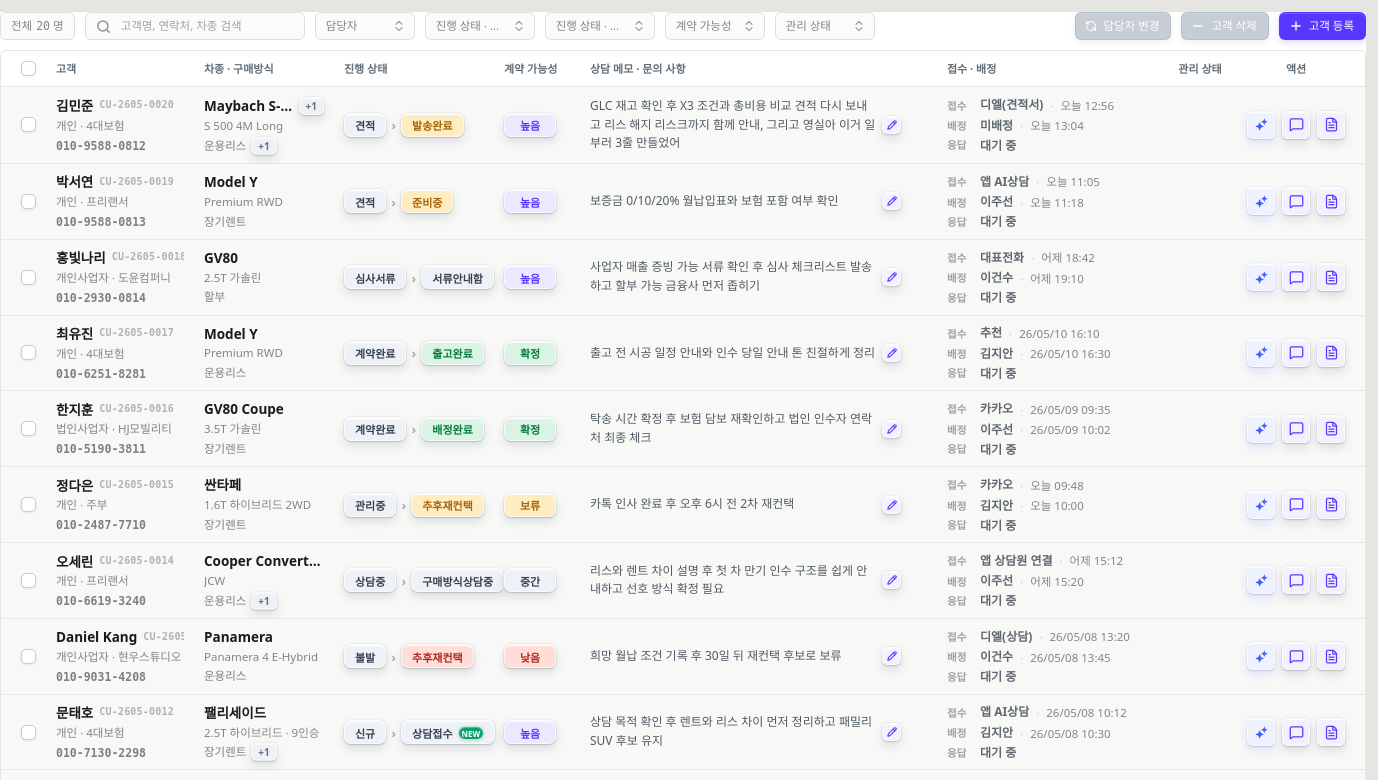
Scenario: CustomerManagementPage › changes a row chance from the chance button
Click the button with aria-label "가능성 변경: 높음". click: (530, 125)
box: x1=504 y1=113 x2=556 y2=137
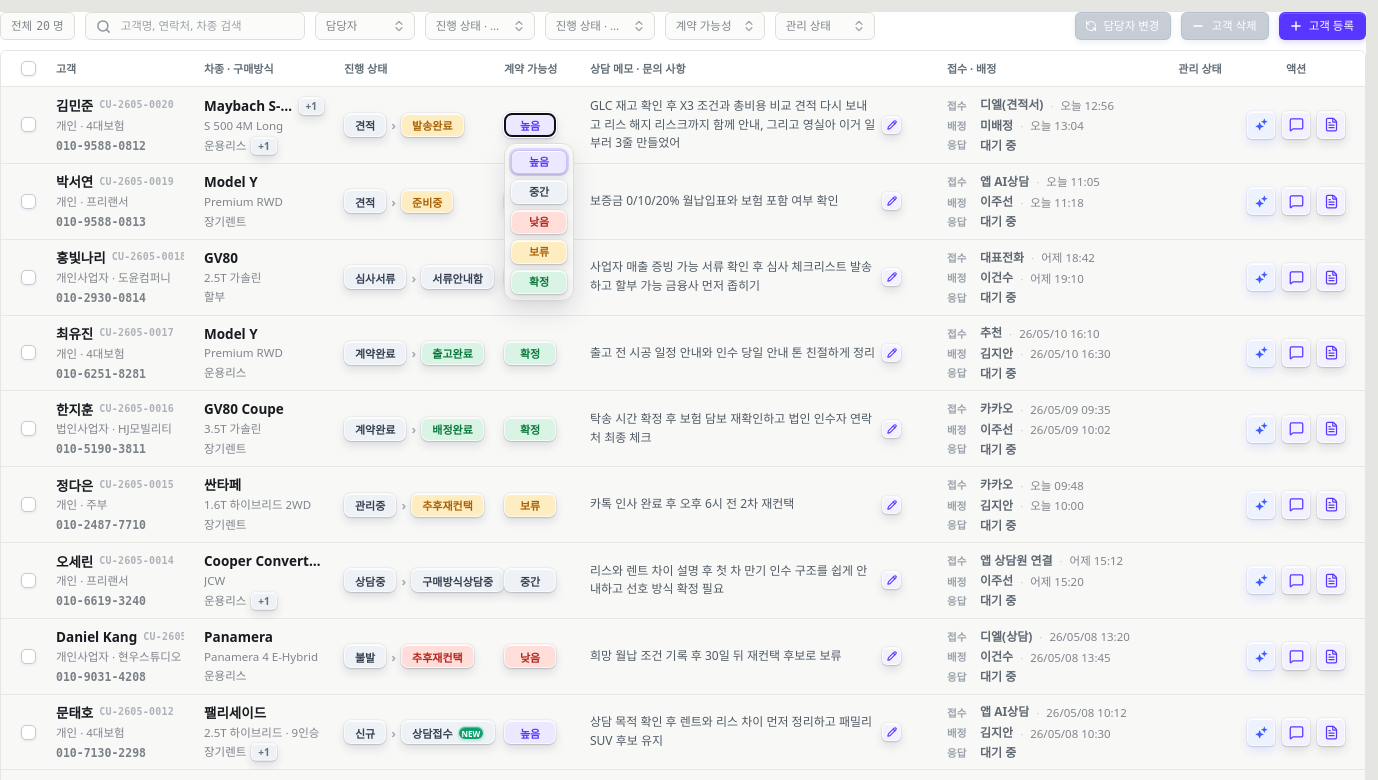
Click the option "보류". click: (539, 252)
box: x1=511 y1=240 x2=567 y2=264
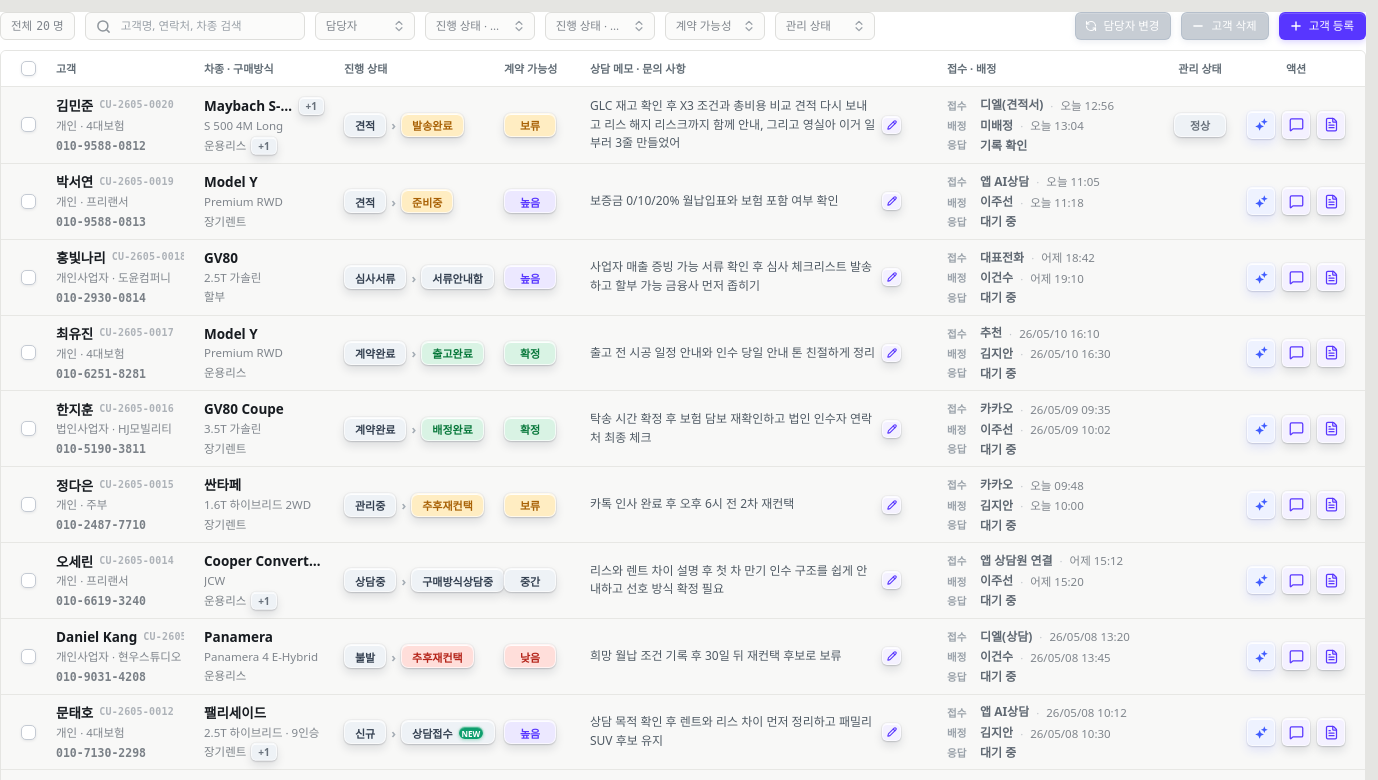
Now the button with aria-label "가능성 변경: 보류" is shown, box x1=504 y1=113 x2=556 y2=137
